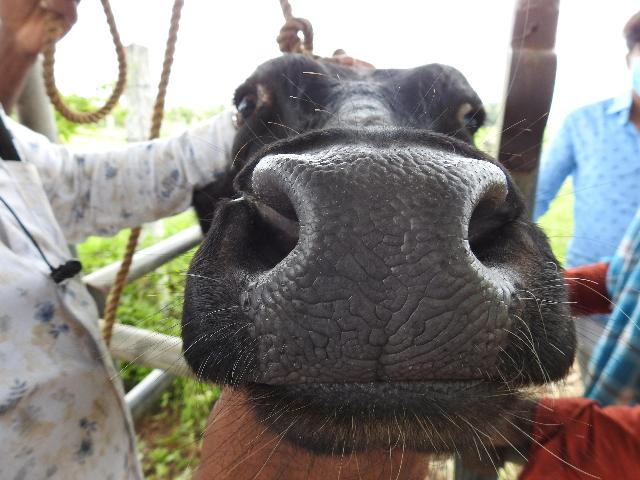Muzzle: (267, 157, 493, 381)
